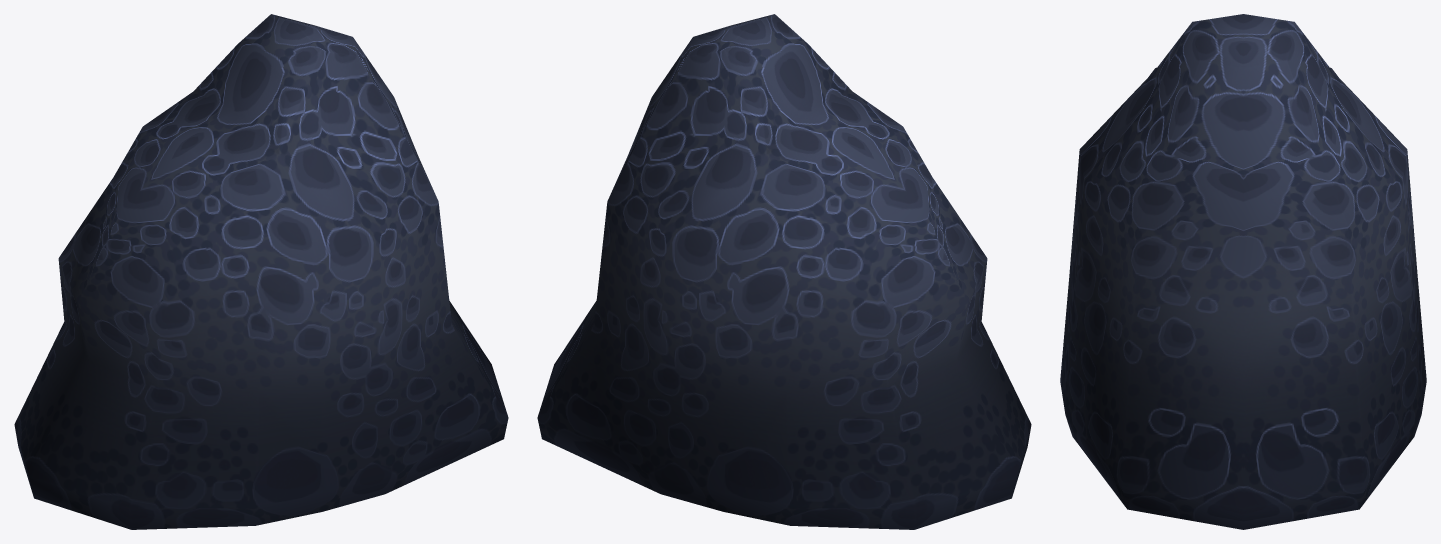
Rendered from Rock_02f.FBX.
3 renders of one model, left to right at view 1: azimuth 30°, elevation 25°; view 2: azimuth 150°, elevation 25°; view 3: azimuth 270°, elevation 25°, orthographic. The views are drawn at different scales.
Parts seen in each view (by area): view 1: Rock_02f; view 2: Rock_02f; view 3: Rock_02f.
Boxes of the visible parts, x1,y1,x2,y2 form: Rock_02f: (14,14,508,529); Rock_02f: (537,14,1031,529); Rock_02f: (1060,14,1426,529).
Size of the model in its own units: 132 by 112 by 88.35.
